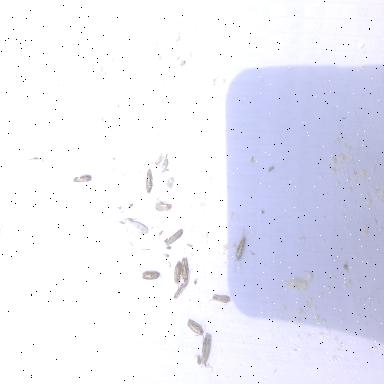pbw: (194, 335, 213, 373), (233, 230, 249, 274), (162, 228, 184, 247), (178, 256, 192, 282), (187, 320, 204, 341), (174, 276, 190, 298), (154, 200, 172, 218), (208, 294, 232, 306), (174, 260, 182, 290), (144, 167, 152, 194), (142, 271, 162, 280), (72, 174, 92, 183), (158, 158, 168, 175)
